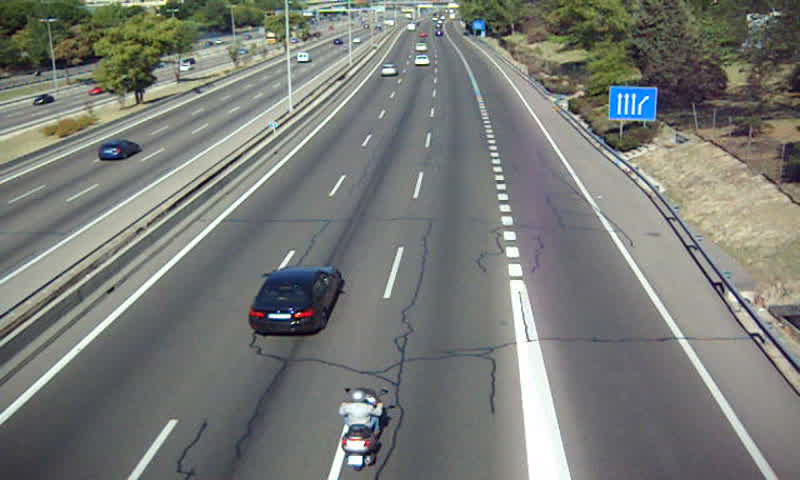car: (250, 268, 341, 336), (413, 54, 432, 67), (380, 63, 396, 78)
motorcycle: (338, 386, 387, 471)
